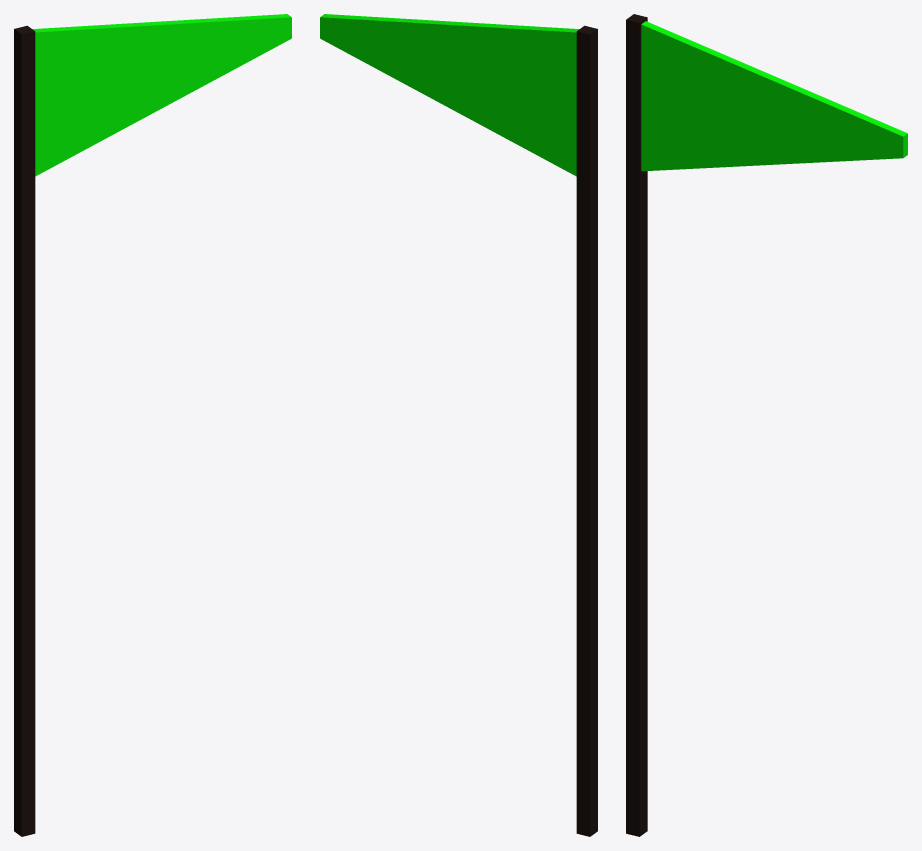
File: flag.obj
3 renders of one model, left to right at view 1: azimuth 30°, elevation 25°; view 2: azimuth 150°, elevation 25°; view 3: azimuth 330°, elevation 25°, orthographic.
Visible parts, largest first — view 1: Cube; view 2: Cube; view 3: Cube.
Part boxes in pixels (x1,y1,x2,y2): Cube: [14, 14, 291, 836]; Cube: [320, 14, 597, 836]; Cube: [626, 14, 907, 836].
Bounding box in the file's own units: 0.8827 × 2.49 × 0.0435.
1 material, 1 textured.
